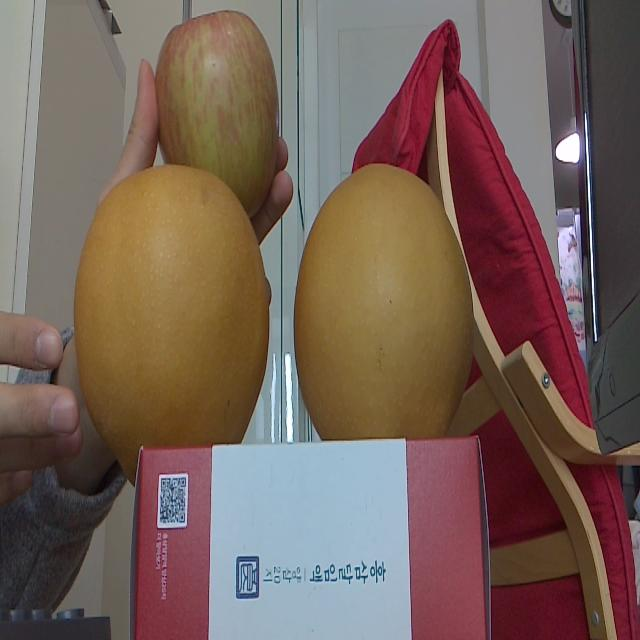apple: (157, 6, 282, 218)
pear: (74, 163, 271, 462), (292, 156, 477, 442)
